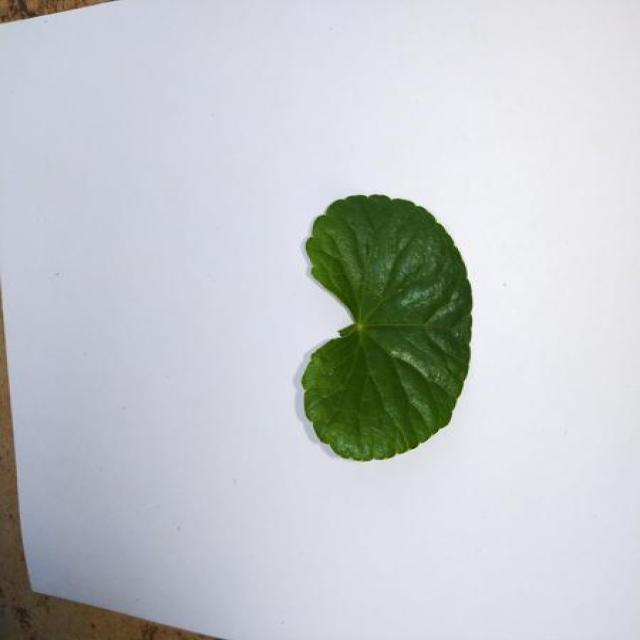bhrami: (302, 195, 472, 461)
